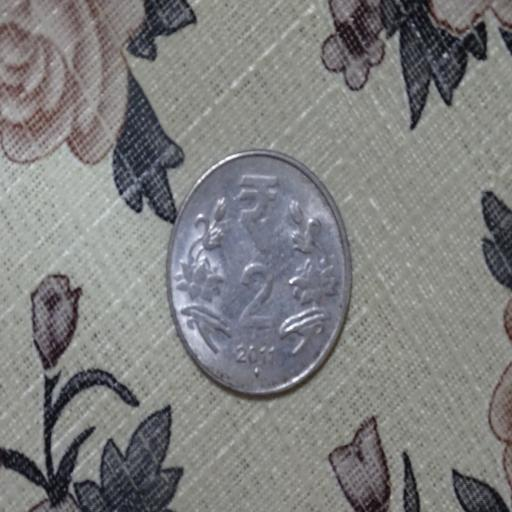rupee2: (165, 150, 353, 395)
